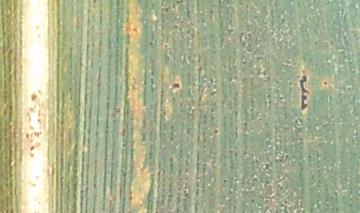tarspot: (297, 73, 309, 111), (170, 81, 183, 91), (321, 78, 330, 87)
